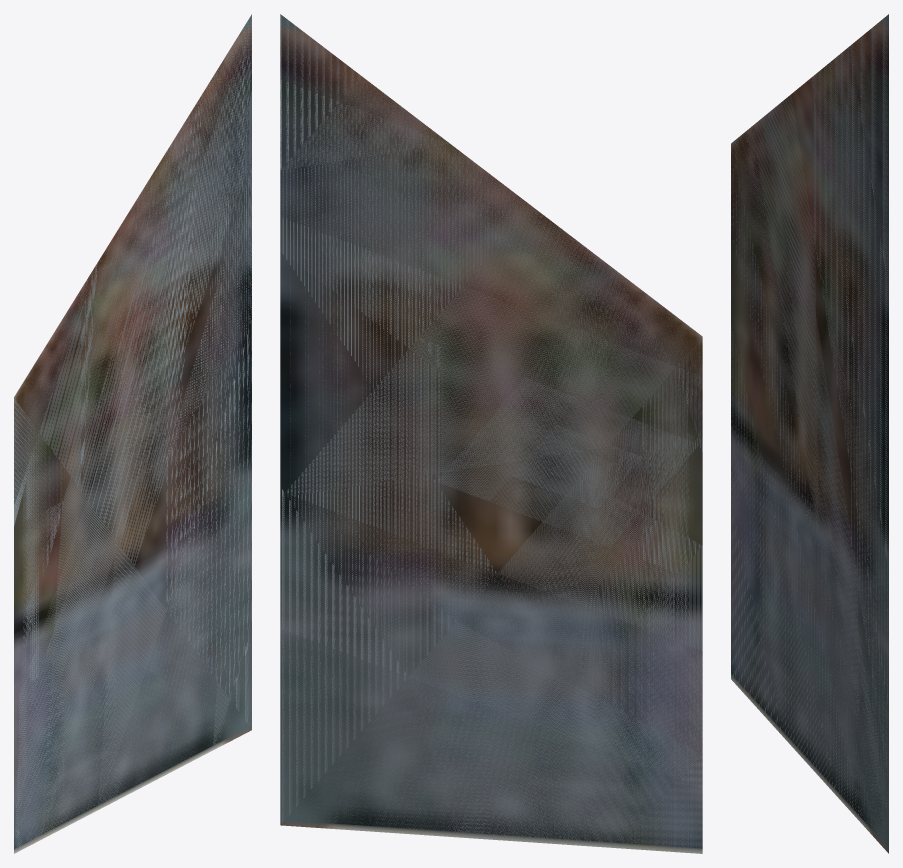
File: 西庸城堡502.dae
The picture shows the model from 3 angles, left to right: view 1: azimuth 30°, elevation 25°; view 2: azimuth 150°, elevation 25°; view 3: azimuth 270°, elevation 25°; orthographic projection. The views are drawn at different scales.
Parts seen in each view (by area): view 1: SketchUp; view 2: SketchUp; view 3: SketchUp.
Part boxes in pixels (box(x1,y1,x2,y2)): SketchUp: box(14, 14, 251, 853); SketchUp: box(280, 14, 702, 853); SketchUp: box(731, 14, 888, 853).
Size of the model in its own units: 57.01 by 21.78 by 128.
